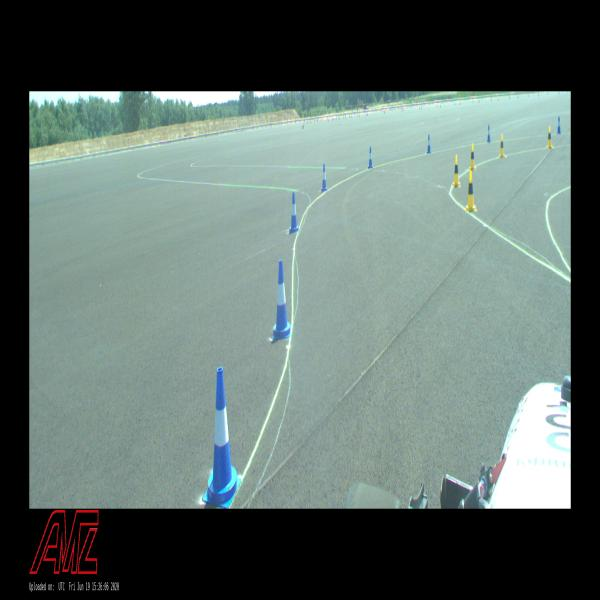blue_cone: (202, 367, 241, 509), (272, 260, 291, 340), (289, 192, 299, 234), (321, 164, 327, 192), (368, 147, 373, 168), (486, 125, 491, 142), (427, 134, 431, 153), (557, 117, 561, 134)
yellow_cone: (466, 171, 476, 211), (452, 155, 461, 187), (469, 144, 476, 170), (546, 126, 553, 150), (499, 134, 505, 158)
